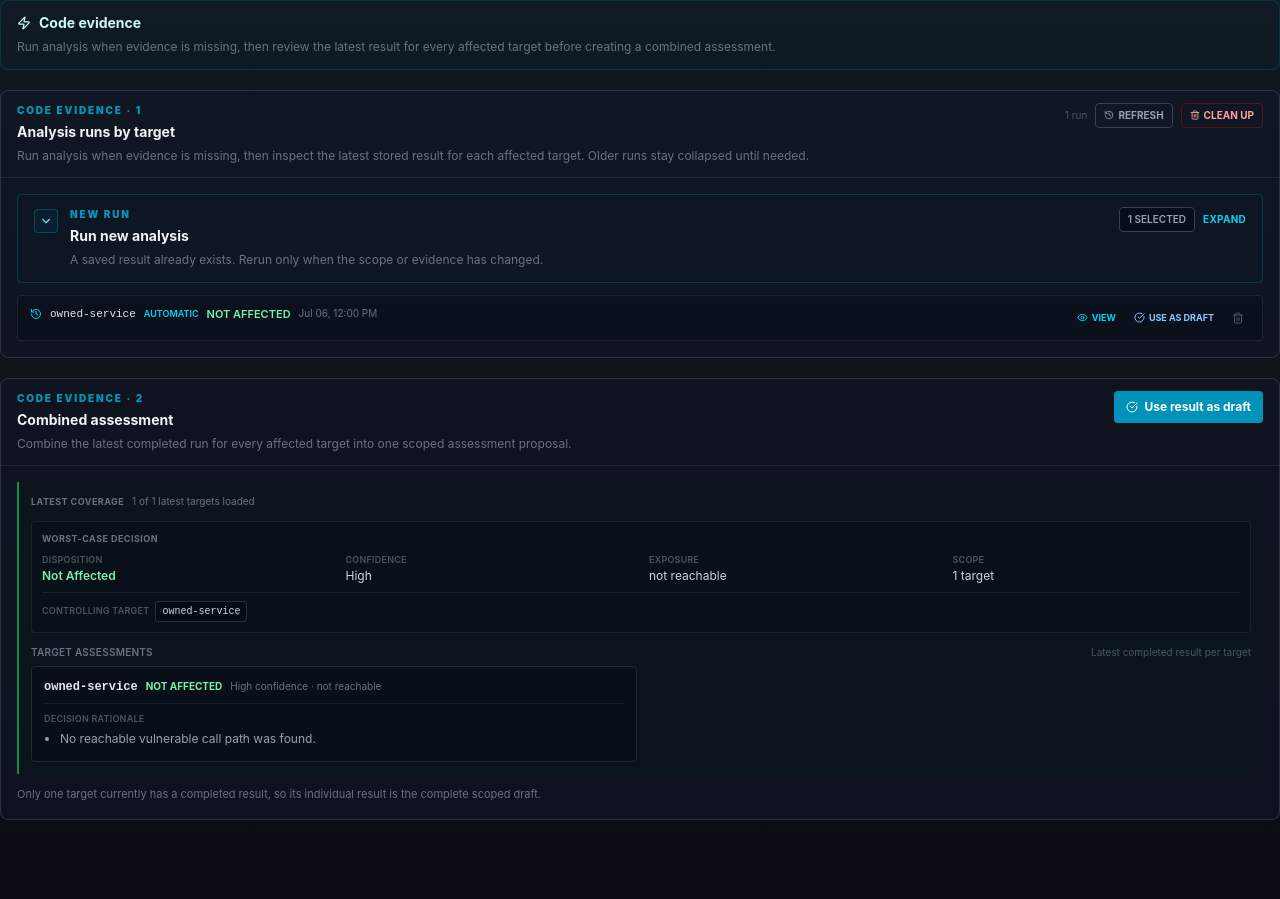
Test: CodeAnalysisPanel › shows saved selected-run guidance when no LLM trace is available
Click the button "View".
click(1096, 318)  # box [1071,307,1122,328]
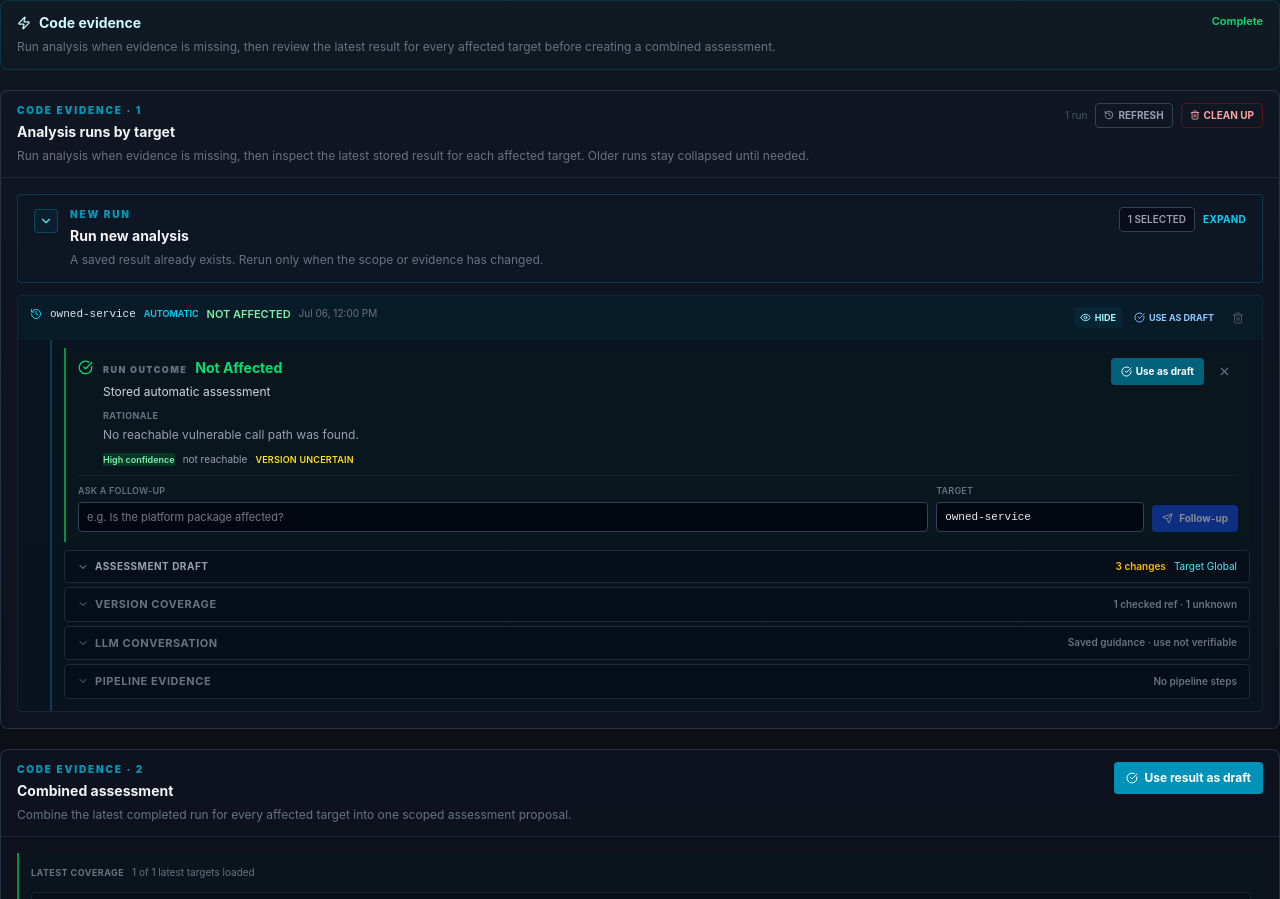
Click the button "LLM Conversation Saved guidance · use not verifiable".
click(156, 642)  # box [65,626,1249,659]
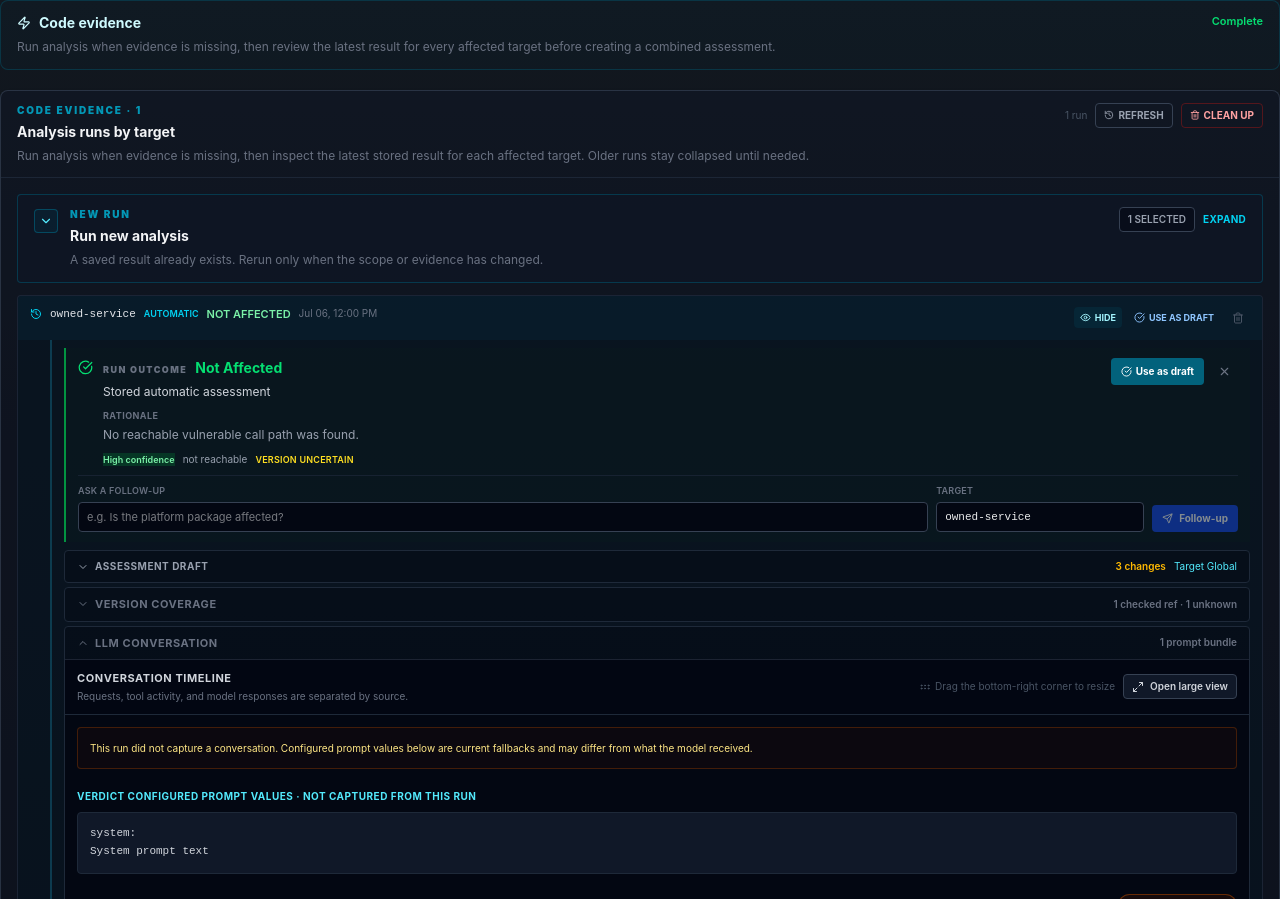
Result: the text "This run did not capture a conversation" is shown at [90,742,753,754]
Result: the text "may differ from what the model received" is shown at [90,742,753,754]
